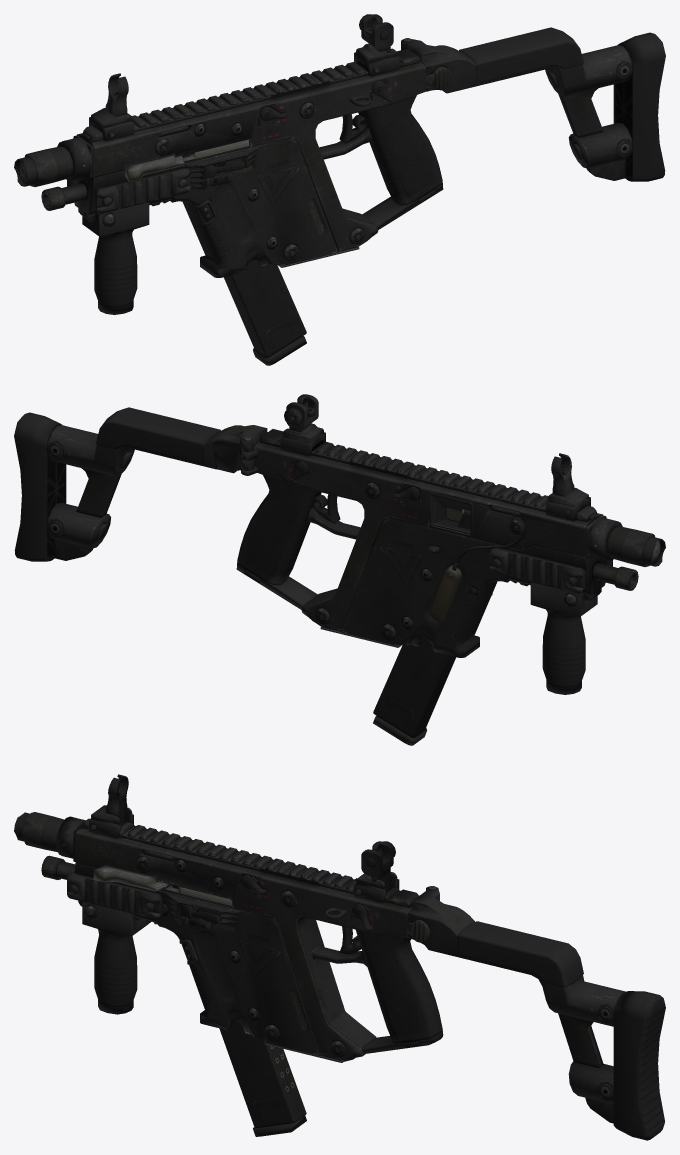
Rendered from vector.glb.
3 renders of one model, top to bottom at view 1: azimuth 30°, elevation 25°; view 2: azimuth 150°, elevation 25°; view 3: azimuth 330°, elevation 25°, orthographic.
Visible parts, largest first — view 1: vector; view 2: vector; view 3: vector.
Part boxes in pixels (bbox=[...]): vector: bbox=[14, 14, 665, 365]; vector: bbox=[14, 394, 665, 745]; vector: bbox=[14, 774, 665, 1140].
Bounding box in the file's own units: 0.62 × 0.2982 × 0.06.
1 material, 1 textured.
